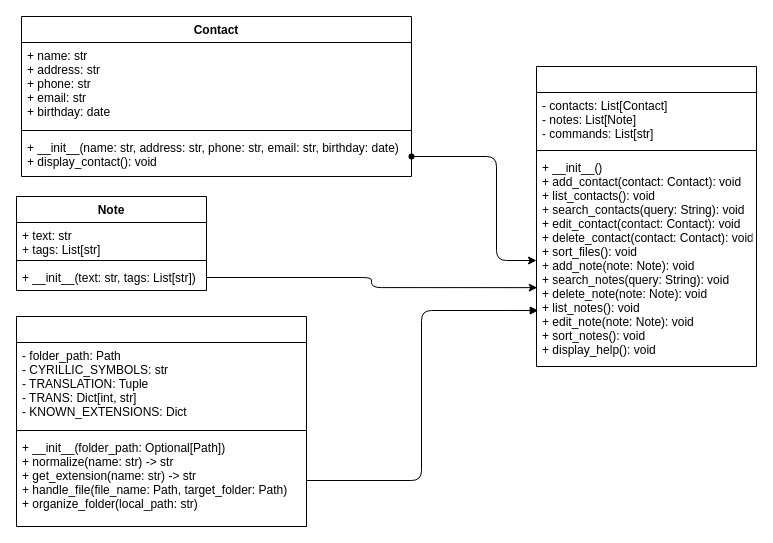
The diagram is 773 pixels wide and 543 high, and some of its shapes have lost their labels. Here are the shapes that lost their labels. From the top down, the box of each, then its label:
(536, 66, 756, 366): PersonalAssistant
(16, 316, 306, 526): FolderOrganizer
